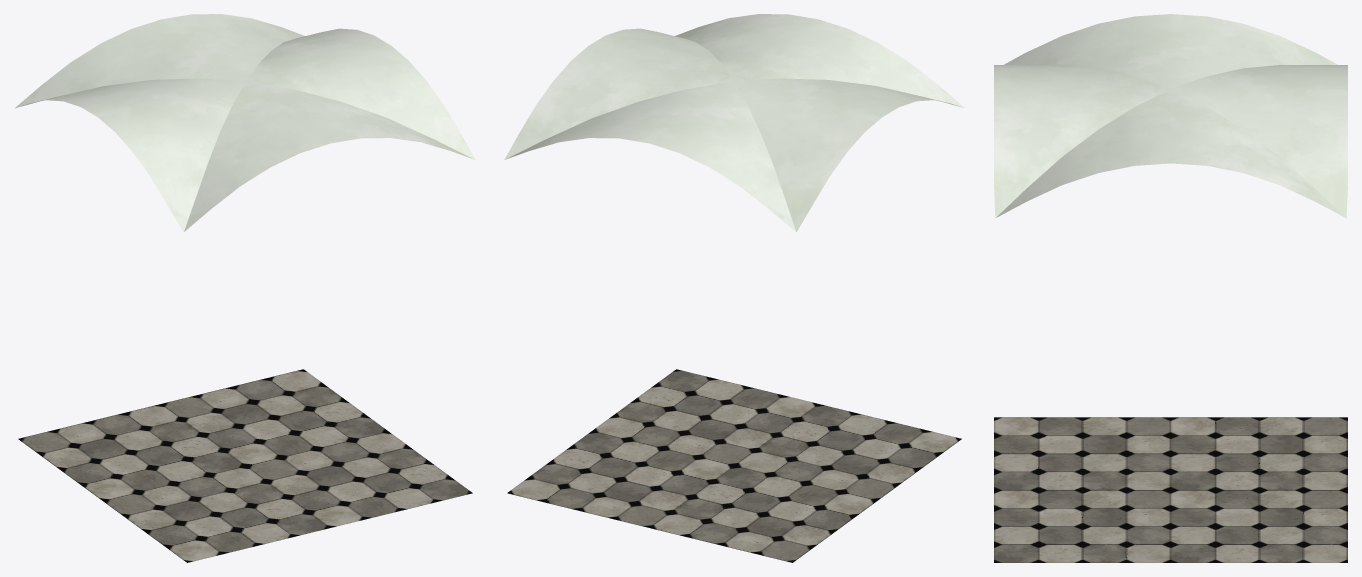
File: junction.FBX
3 views of the same model, side by side, from view 1: azimuth 30°, elevation 25°; view 2: azimuth 150°, elevation 25°; view 3: azimuth 270°, elevation 25° (orthographic). The views are drawn at different scales.
Parts seen in each view (by area): view 1: Junction; view 2: Junction; view 3: Junction.
Part boxes in pixels (x1,y1,x2,y2): Junction: [15, 14, 475, 562]; Junction: [504, 14, 964, 562]; Junction: [994, 14, 1347, 562].
Size of the model in its own units: 160 by 200 by 160.
